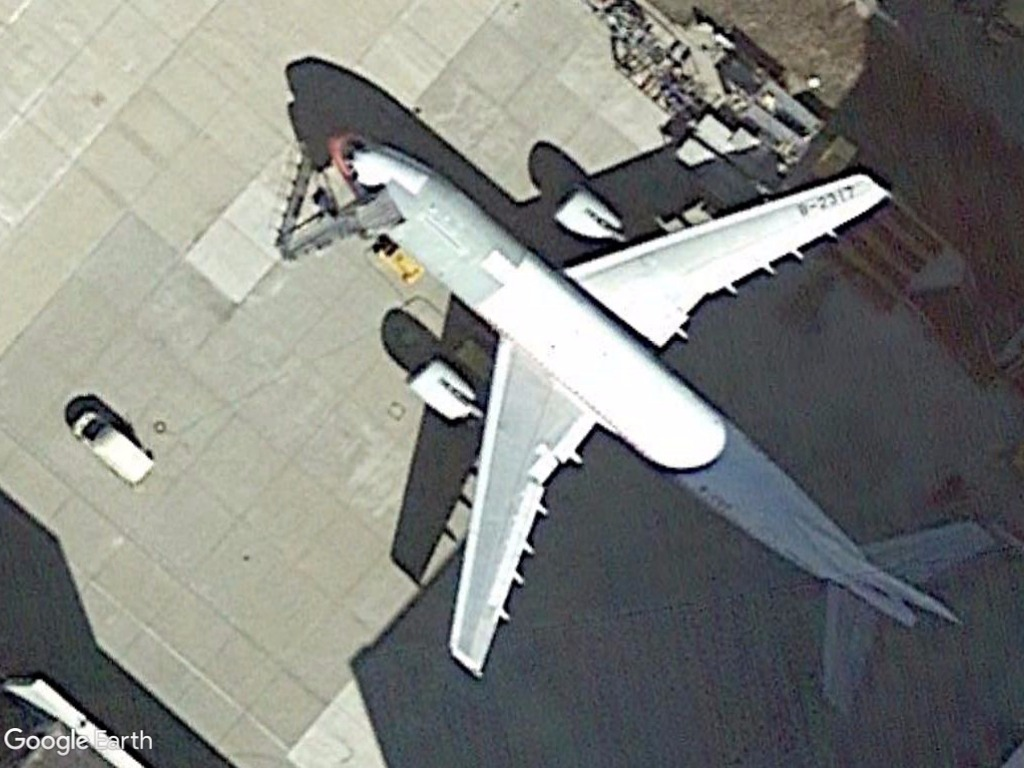airliner: (296, 125, 1024, 718)
van: (68, 404, 159, 491)
